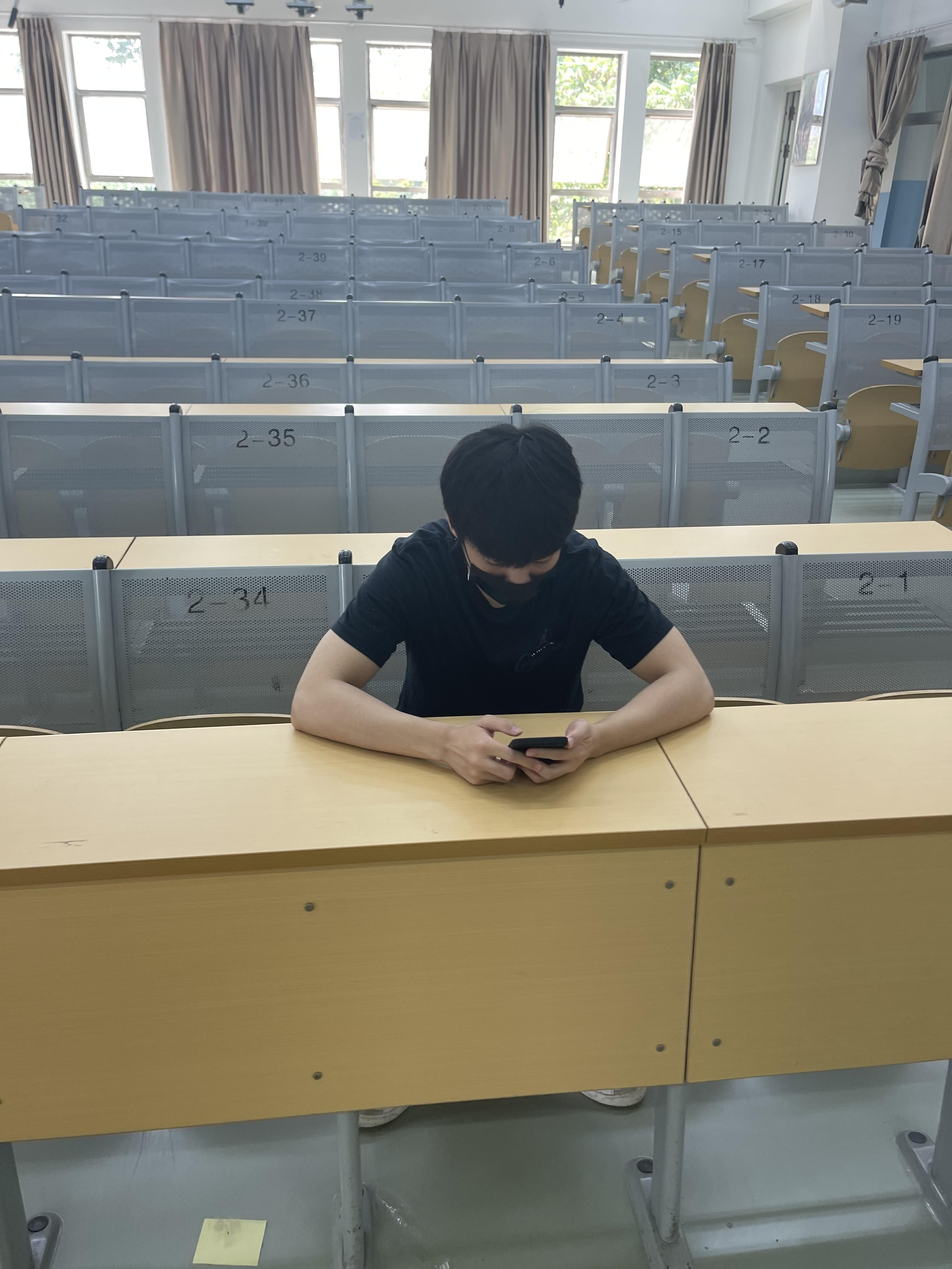phone: (289, 421, 711, 785)
